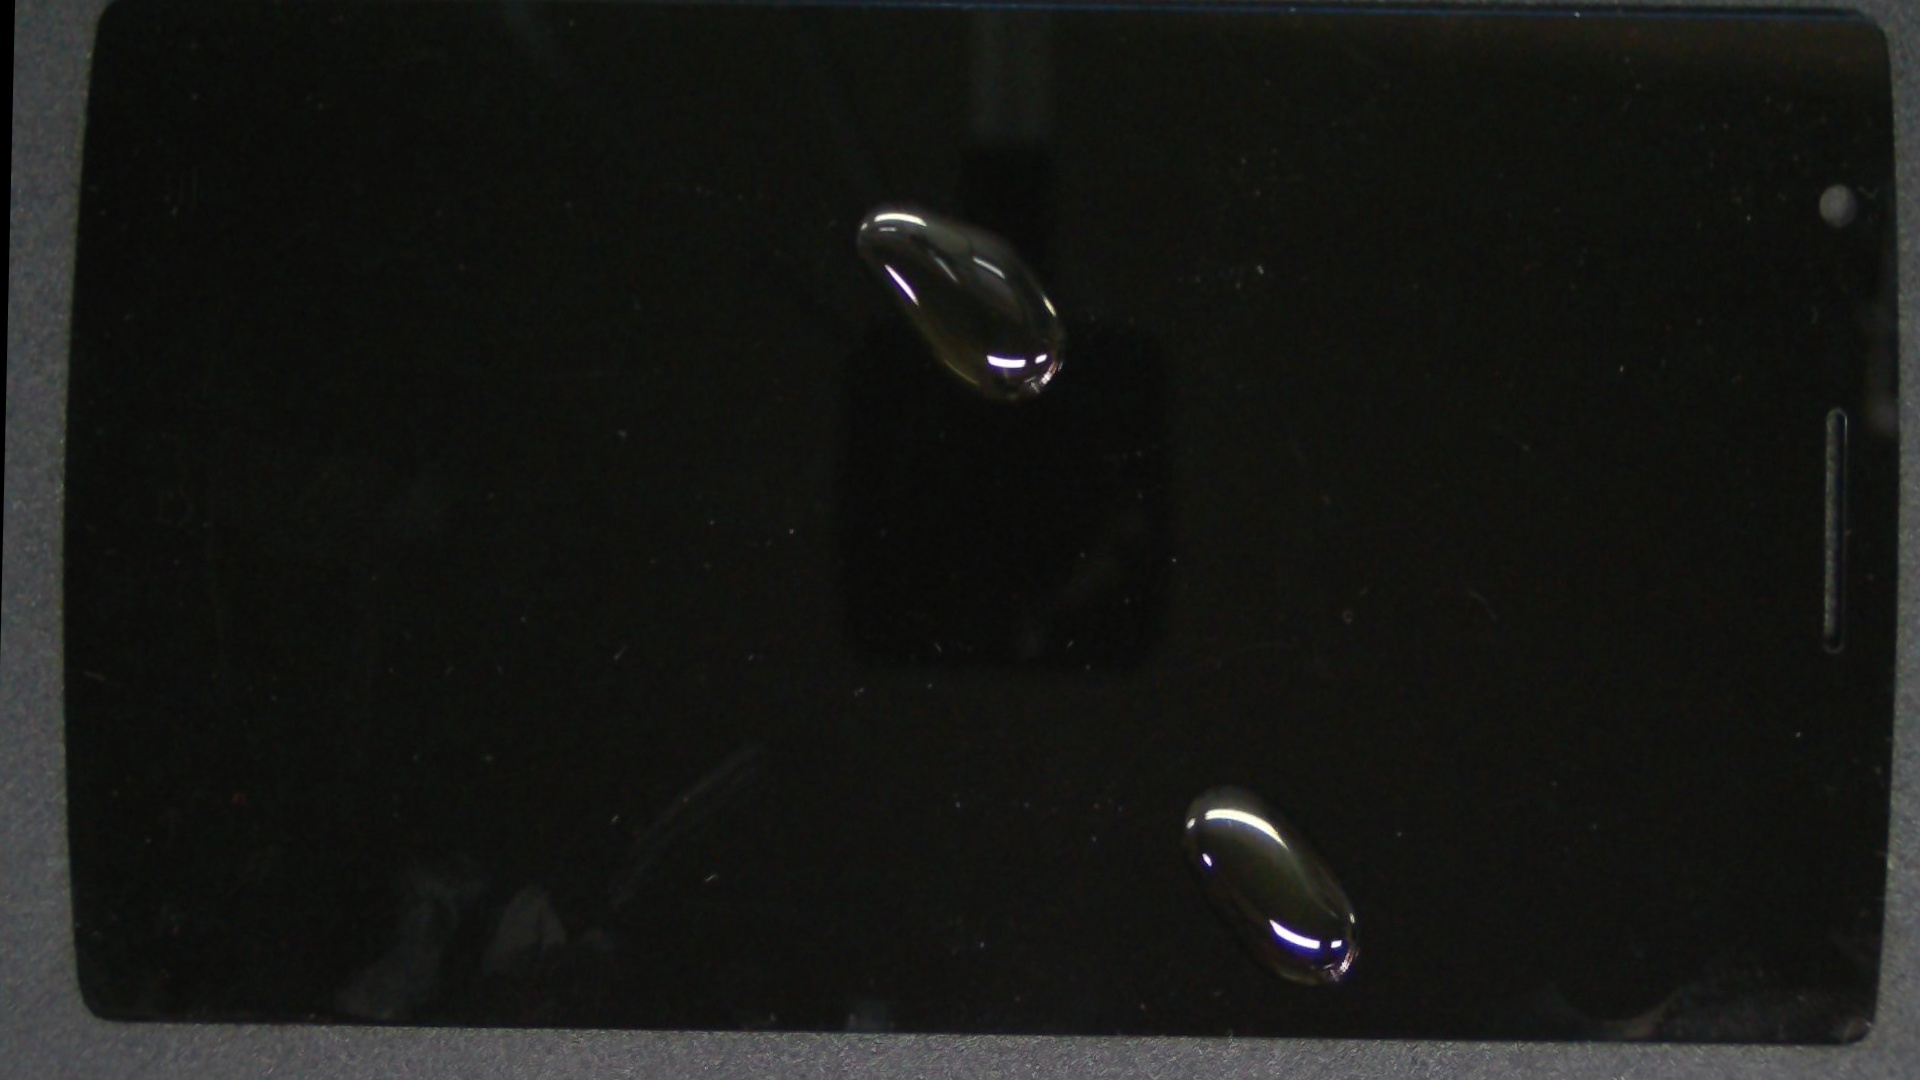oil: (600, 324, 1837, 1080), (455, 33, 1356, 377)
